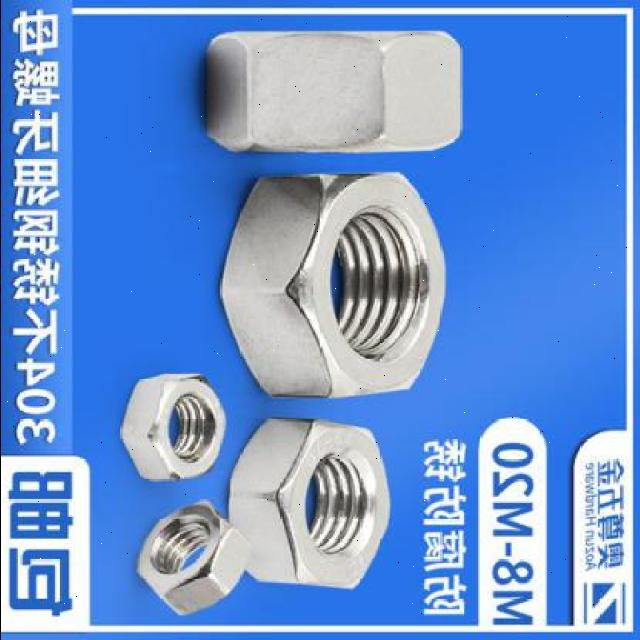Nut: (215, 169, 448, 403), (198, 24, 464, 158), (223, 417, 392, 590), (129, 500, 249, 616), (115, 370, 228, 484)
